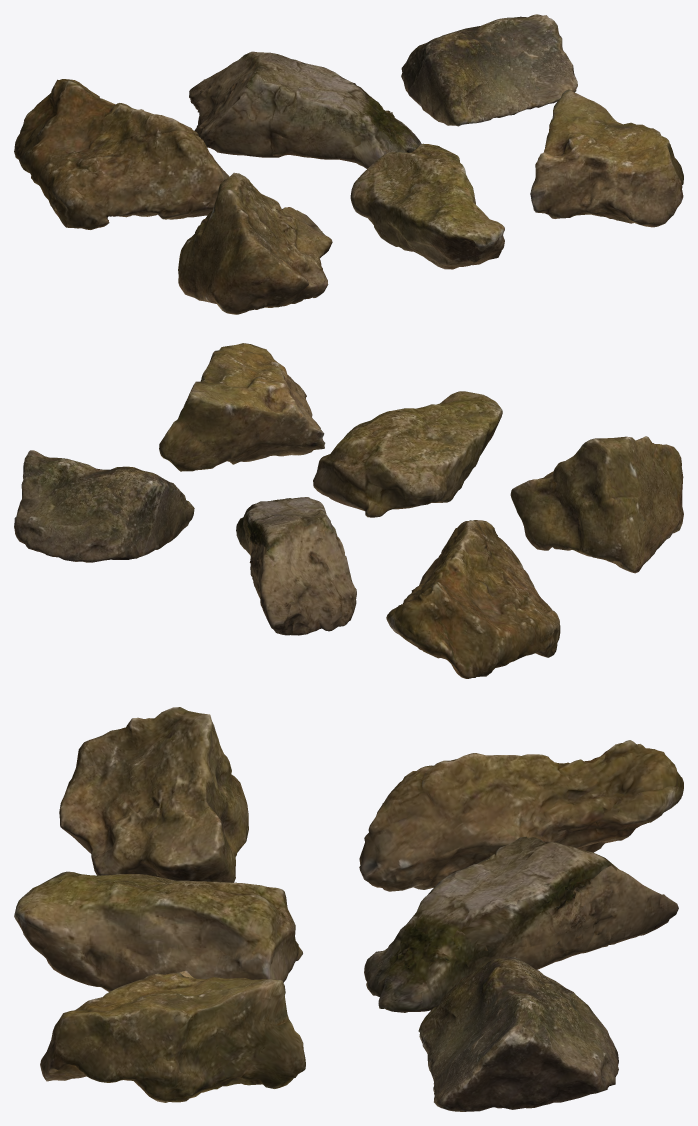
Rendered from runtime-lod.glb.
3 renders of one model, top to bottom at view 1: azimuth 30°, elevation 25°; view 2: azimuth 150°, elevation 25°; view 3: azimuth 270°, elevation 25°, orthographic. The views are drawn at different scales.
Parts seen in each view (by area): view 1: rock_moss_set_01_rock01; view 2: rock_moss_set_01_rock01; view 3: rock_moss_set_01_rock01.
Boxes of the visible parts, x1,y1,x2,y2 form: rock_moss_set_01_rock01: (14,14,683,314); rock_moss_set_01_rock01: (14,343,683,678); rock_moss_set_01_rock01: (14,707,683,1111).
Size of the model in its own units: 8 by 1.77 by 6.94.
1 material, 1 textured.
